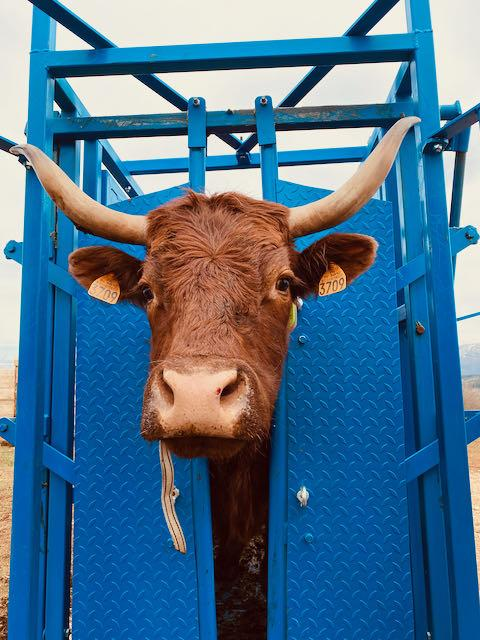muzzles: (135, 359, 283, 462)
